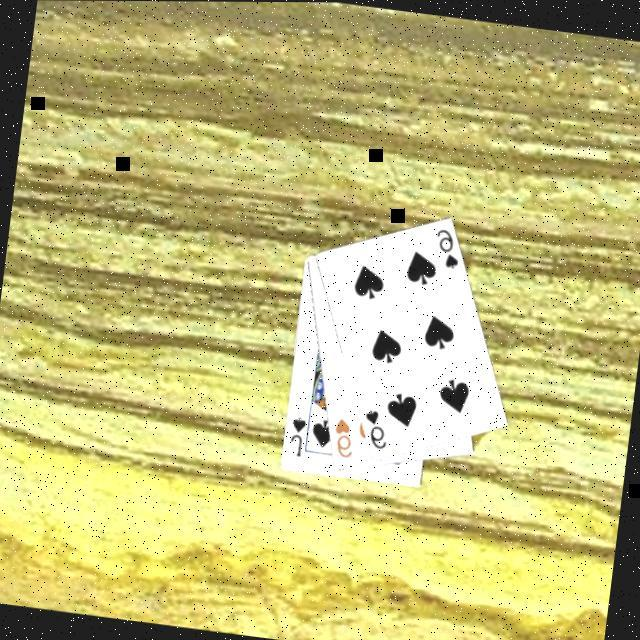6H: (327, 414, 358, 462)
6S: (356, 406, 392, 454), (428, 225, 463, 272)
JS: (283, 414, 307, 461)
